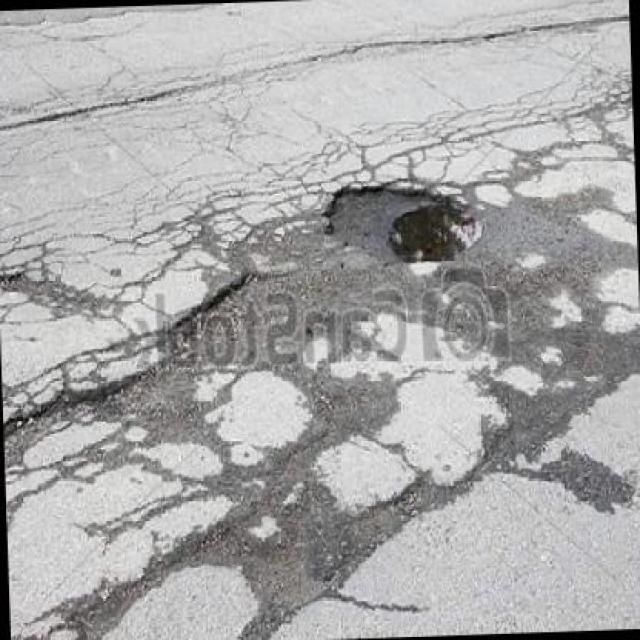pothole1: (320, 168, 492, 268), (167, 266, 264, 334)
